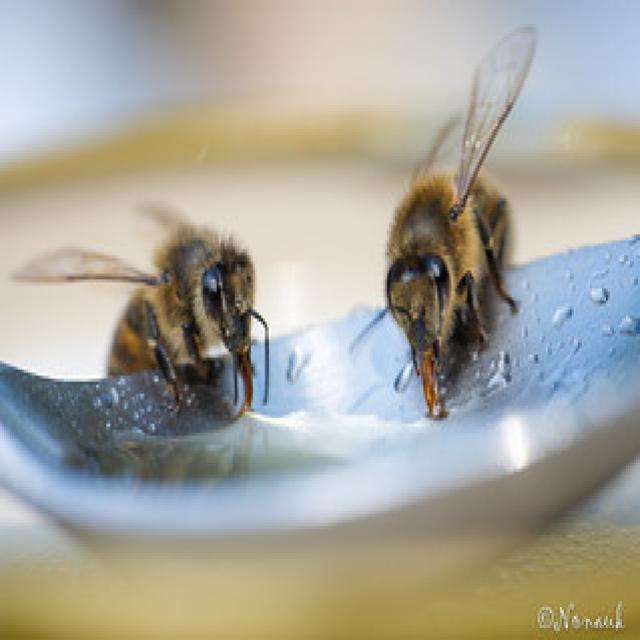Abeille: (13, 150, 309, 448), (361, 19, 558, 416)
